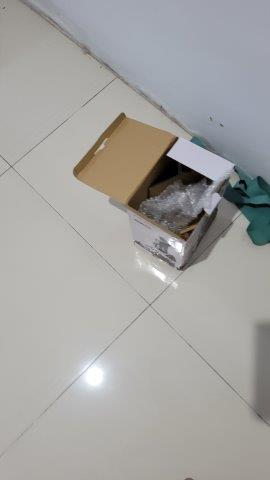kardus: (73, 113, 236, 272)
